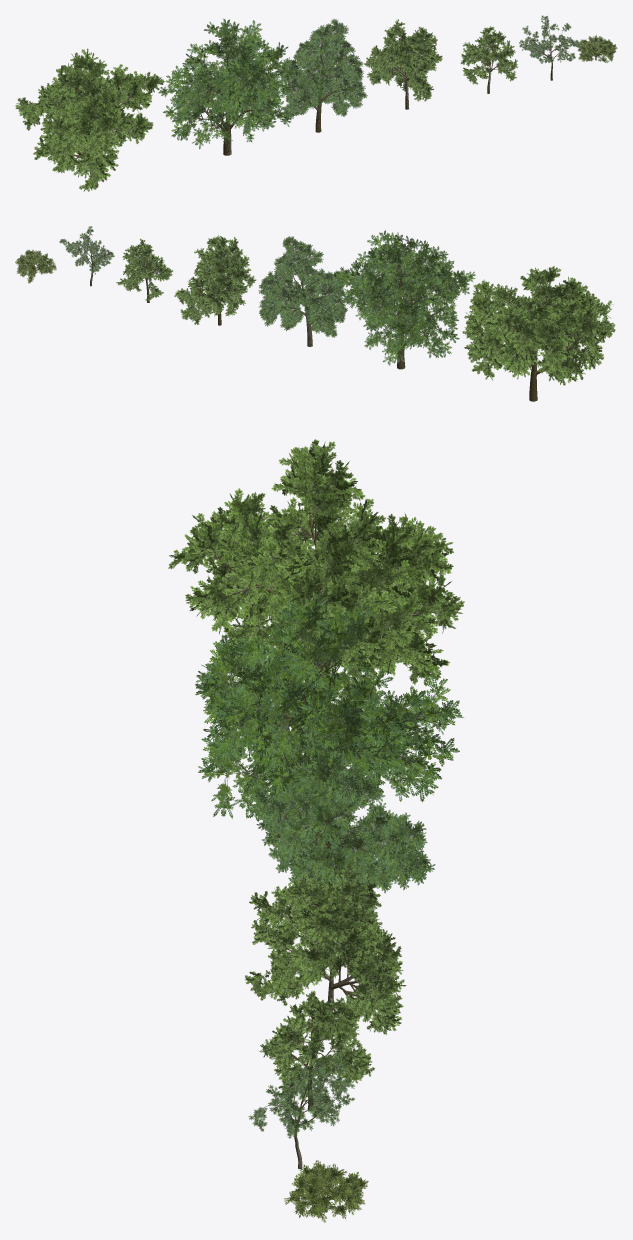
Rendered from trees.glb.
The picture shows the model from 3 angles, top to bottom: view 1: azimuth 30°, elevation 25°; view 2: azimuth 150°, elevation 25°; view 3: azimuth 270°, elevation 25°; orthographic projection. The views are drawn at different scales.
Parts seen in each view (by area): view 1: Tree EZTree1.Large009_leaves.009_0, Tree EZTree0.Large_leaves_0, Tree EZTree1.Large001_leaves.001_0 (×2), Tree EZTree0.Medium010_leaves.010_0, Tree EZTree0.Medium011_leaves.011_0, Tree EZTree1.Medium002_leaves.002_0, Tree EZTree1.Bush006_leaves.006_0, Tree EZTree0.Large_branches_0, Tree EZTree1.Large001_branches.001_0, Tree EZTree1.Large009_branches.009_0, Tree EZTree0.Medium010_branches.010_0; view 2: Tree EZTree1.Large009_leaves.009_0, Tree EZTree0.Large_leaves_0, Tree EZTree1.Large001_leaves.001_0 (×2), Tree EZTree0.Medium010_leaves.010_0, Tree EZTree0.Medium011_leaves.011_0, Tree EZTree1.Medium002_leaves.002_0, Tree EZTree1.Bush006_leaves.006_0, Tree EZTree0.Large_branches_0, Tree EZTree1.Large009_branches.009_0, Tree EZTree1.Large001_branches.001_0; view 3: Tree EZTree1.Large009_leaves.009_0, Tree EZTree0.Large_leaves_0, Tree EZTree1.Large001_leaves.001_0 (×2), Tree EZTree0.Medium010_leaves.010_0, Tree EZTree0.Medium011_leaves.011_0, Tree EZTree1.Medium002_leaves.002_0, Tree EZTree1.Bush006_leaves.006_0.
Boxes of the visible parts, x1,y1,x2,y2 form: Tree EZTree1.Large009_leaves.009_0: (15, 48, 164, 191); Tree EZTree0.Large_leaves_0: (158, 18, 297, 149); Tree EZTree1.Large001_leaves.001_0 (×2): (280, 19, 367, 119); Tree EZTree0.Medium010_leaves.010_0: (364, 19, 442, 101); Tree EZTree0.Medium011_leaves.011_0: (460, 26, 517, 84); Tree EZTree1.Medium002_leaves.002_0: (519, 15, 581, 63); Tree EZTree1.Bush006_leaves.006_0: (577, 35, 617, 62); Tree EZTree0.Large_branches_0: (187, 43, 275, 155); Tree EZTree1.Large001_branches.001_0: (291, 32, 349, 132); Tree EZTree1.Large009_branches.009_0: (30, 71, 146, 188); Tree EZTree0.Medium010_branches.010_0: (382, 45, 421, 109); Tree EZTree1.Large009_leaves.009_0: (462, 266, 615, 385); Tree EZTree0.Large_leaves_0: (330, 230, 475, 365); Tree EZTree1.Large001_leaves.001_0 (×2): (258, 236, 350, 337); Tree EZTree0.Medium010_leaves.010_0: (174, 235, 256, 324); Tree EZTree0.Medium011_leaves.011_0: (116, 238, 173, 301); Tree EZTree1.Medium002_leaves.002_0: (59, 226, 114, 274); Tree EZTree1.Bush006_leaves.006_0: (15, 250, 56, 283); Tree EZTree0.Large_branches_0: (370, 254, 446, 369); Tree EZTree1.Large009_branches.009_0: (479, 285, 588, 401); Tree EZTree1.Large001_branches.001_0: (270, 247, 335, 346); Tree EZTree1.Large009_leaves.009_0: (168, 439, 464, 705); Tree EZTree0.Large_leaves_0: (195, 592, 463, 821); Tree EZTree1.Large001_leaves.001_0 (×2): (248, 746, 435, 957); Tree EZTree0.Medium010_leaves.010_0: (245, 861, 406, 1034); Tree EZTree0.Medium011_leaves.011_0: (259, 990, 374, 1101); Tree EZTree1.Medium002_leaves.002_0: (248, 1041, 354, 1138); Tree EZTree1.Bush006_leaves.006_0: (284, 1160, 368, 1222).
Bounding box in the file's own units: 473 × 107 × 109.
5 materials, 5 textured.
